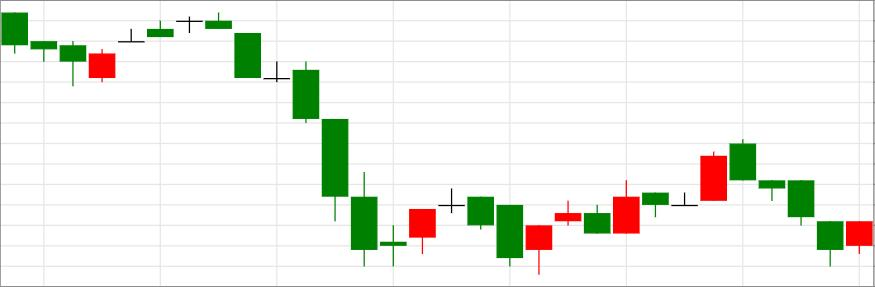morning_star_rise: (175, 10, 437, 267)
